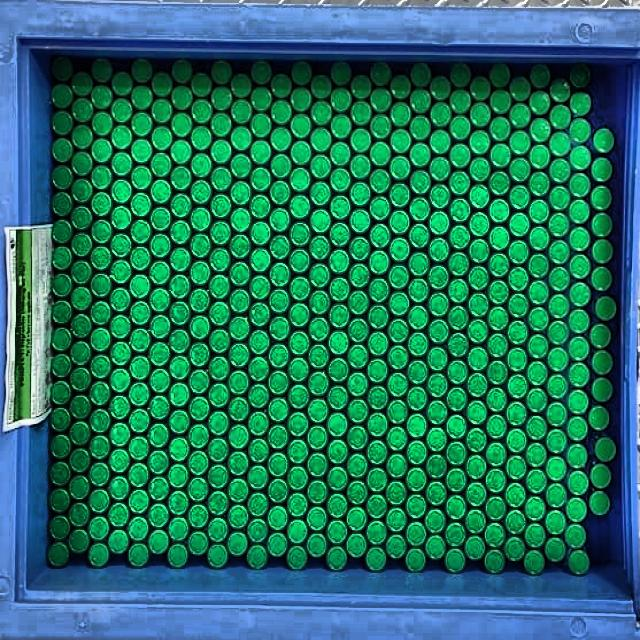vial: (226, 450, 249, 476), (593, 437, 616, 462), (267, 343, 290, 368), (226, 531, 248, 557), (306, 425, 328, 451), (88, 409, 111, 433), (186, 532, 209, 556), (267, 452, 290, 476), (249, 275, 271, 300), (188, 288, 210, 313), (129, 300, 151, 325), (90, 165, 112, 190), (51, 137, 73, 162), (190, 126, 212, 151), (129, 328, 151, 353), (50, 407, 72, 432), (107, 529, 129, 554), (385, 507, 407, 532), (523, 550, 545, 575), (547, 347, 569, 372), (591, 350, 613, 375), (467, 346, 489, 371), (386, 453, 408, 478), (327, 385, 349, 410), (349, 236, 371, 261), (447, 332, 469, 357), (467, 319, 489, 344), (593, 129, 615, 154), (549, 131, 571, 156), (469, 157, 491, 182), (449, 143, 471, 168), (350, 101, 372, 126), (290, 87, 312, 112), (210, 220, 231, 246), (210, 193, 231, 219), (246, 544, 267, 570), (365, 546, 386, 572), (465, 508, 486, 534), (366, 411, 387, 437), (407, 359, 428, 385), (309, 289, 330, 315), (408, 304, 429, 330), (488, 198, 509, 224), (370, 114, 391, 140), (248, 464, 268, 491), (149, 288, 171, 312), (70, 314, 92, 338), (51, 246, 73, 270), (150, 180, 172, 204), (71, 206, 93, 230), (51, 192, 73, 216), (91, 138, 113, 162), (189, 207, 211, 231), (210, 166, 232, 190), (169, 329, 191, 353), (69, 395, 91, 419), (128, 409, 150, 433), (108, 503, 130, 527), (567, 471, 589, 495), (545, 429, 567, 453), (406, 387, 428, 411), (267, 479, 289, 503), (287, 439, 309, 463), (247, 492, 269, 516), (187, 478, 209, 502), (288, 331, 310, 355), (248, 329, 270, 353), (308, 317, 330, 341), (428, 292, 450, 316), (507, 240, 529, 264), (549, 267, 571, 291), (568, 200, 590, 224), (548, 213, 570, 237), (528, 227, 550, 251), (488, 226, 510, 250), (508, 213, 530, 237), (528, 172, 550, 196), (388, 156, 410, 180), (110, 287, 131, 312), (90, 300, 111, 325), (50, 327, 71, 352), (51, 299, 72, 324), (72, 232, 93, 257), (130, 246, 151, 271), (71, 178, 92, 203), (111, 205, 132, 230), (111, 152, 132, 177), (131, 165, 152, 190), (170, 166, 191, 191), (230, 153, 251, 178), (151, 125, 172, 150), (50, 380, 71, 405), (89, 381, 110, 406), (109, 395, 130, 420), (69, 448, 90, 473), (88, 542, 109, 567), (89, 489, 110, 514), (88, 515, 109, 540), (127, 516, 148, 541), (89, 462, 110, 487), (108, 476, 129, 501), (148, 476, 169, 501), (148, 529, 169, 554), (188, 504, 209, 529), (207, 518, 228, 543), (327, 493, 348, 518), (346, 507, 367, 532), (346, 533, 367, 558), (405, 547, 426, 572), (485, 496, 506, 521), (526, 469, 547, 494), (590, 464, 611, 489), (505, 455, 526, 480), (506, 428, 527, 453), (526, 387, 547, 412), (547, 374, 568, 399), (568, 336, 589, 361), (467, 373, 488, 398), (487, 360, 508, 385), (485, 387, 506, 412), (447, 360, 468, 385), (426, 454, 447, 479), (327, 412, 348, 437), (287, 466, 308, 491), (208, 410, 229, 435), (268, 370, 289, 395), (248, 411, 269, 436), (267, 424, 288, 449), (268, 397, 289, 422), (288, 384, 309, 409), (308, 371, 329, 396), (427, 373, 448, 398), (289, 276, 310, 301), (328, 249, 349, 274), (289, 195, 310, 220), (508, 293, 529, 318), (508, 267, 529, 292), (569, 254, 590, 279), (591, 267, 612, 292), (591, 186, 612, 211), (569, 227, 590, 252), (570, 146, 591, 171), (509, 130, 530, 155), (470, 129, 491, 154), (429, 184, 450, 209), (449, 170, 470, 195), (310, 128, 331, 153), (290, 141, 311, 166), (270, 181, 291, 206), (351, 154, 372, 179), (369, 169, 390, 194), (449, 225, 470, 250), (306, 532, 326, 558), (367, 493, 387, 519), (589, 405, 609, 431), (208, 490, 228, 516), (350, 208, 370, 234), (251, 167, 271, 193), (249, 249, 271, 272), (51, 274, 73, 297), (50, 220, 73, 242), (51, 165, 73, 188), (111, 99, 133, 122), (149, 342, 171, 365), (50, 354, 72, 377), (147, 424, 169, 447), (68, 503, 90, 526), (567, 390, 589, 413), (527, 308, 549, 331), (489, 144, 511, 167), (129, 274, 150, 298), (90, 246, 111, 270), (170, 220, 191, 244), (111, 179, 132, 203), (91, 192, 112, 216), (52, 112, 73, 136), (92, 112, 113, 136), (151, 153, 172, 177), (171, 194, 192, 218), (231, 99, 252, 123), (211, 60, 232, 84), (171, 112, 192, 136), (112, 125, 133, 149), (72, 98, 93, 122), (208, 357, 229, 381), (189, 343, 210, 367), (90, 354, 111, 378), (109, 369, 130, 393), (129, 356, 150, 380), (70, 341, 91, 365), (128, 436, 149, 460), (109, 423, 130, 447), (69, 421, 90, 445), (49, 461, 70, 485), (47, 542, 68, 566), (68, 529, 89, 553), (128, 543, 149, 567), (109, 449, 130, 473), (128, 463, 149, 487), (148, 504, 169, 528), (266, 533, 287, 557), (287, 519, 308, 543), (287, 546, 308, 570), (366, 521, 387, 545), (385, 535, 406, 559), (425, 536, 446, 560), (445, 522, 466, 546), (568, 550, 589, 574), (545, 510, 566, 534), (505, 483, 526, 507), (566, 444, 587, 468), (546, 457, 567, 481), (485, 469, 506, 493), (567, 416, 588, 440), (526, 416, 547, 440), (506, 401, 527, 425), (527, 361, 548, 385), (466, 401, 487, 425), (507, 374, 528, 398), (507, 348, 528, 372), (527, 334, 548, 358), (487, 333, 508, 357), (486, 442, 507, 466), (446, 441, 467, 465), (426, 427, 447, 451), (407, 440, 428, 464), (386, 427, 407, 451), (387, 399, 408, 423), (347, 481, 368, 505), (347, 399, 368, 423), (327, 467, 348, 491), (327, 439, 348, 463), (306, 480, 327, 504), (227, 478, 248, 502), (167, 463, 188, 487), (188, 451, 209, 475), (169, 409, 190, 433), (228, 397, 249, 421), (228, 371, 249, 395), (308, 399, 329, 423), (308, 344, 329, 368), (347, 372, 368, 396), (388, 345, 409, 369), (249, 302, 270, 326), (288, 303, 309, 327), (329, 304, 350, 328), (309, 263, 330, 287), (369, 251, 390, 275), (388, 318, 409, 342), (448, 279, 469, 303), (469, 239, 490, 263), (548, 294, 569, 318), (528, 254, 549, 278), (570, 282, 591, 306), (509, 185, 530, 209), (528, 199, 549, 223), (509, 158, 530, 182), (550, 159, 571, 183), (591, 158, 612, 182), (569, 118, 590, 142), (490, 117, 511, 141), (510, 77, 531, 101), (450, 89, 471, 113), (449, 198, 470, 222), (430, 157, 451, 181), (410, 197, 431, 221), (410, 171, 431, 195), (410, 116, 431, 140), (390, 129, 411, 153), (390, 102, 411, 126), (430, 76, 451, 100), (370, 61, 391, 85), (311, 100, 332, 124), (251, 113, 272, 137), (271, 100, 292, 124), (310, 182, 331, 206), (469, 213, 490, 237), (429, 211, 450, 235), (250, 194, 270, 219), (90, 327, 110, 352), (151, 206, 171, 231), (191, 153, 211, 178), (210, 328, 230, 353), (90, 435, 110, 460), (69, 475, 89, 500), (168, 543, 188, 568), (287, 492, 307, 517), (327, 545, 347, 570), (445, 548, 465, 573), (525, 523, 545, 548), (545, 537, 565, 562), (525, 496, 545, 521), (546, 483, 566, 508), (446, 468, 466, 493), (407, 413, 427, 438), (307, 452, 327, 477), (348, 426, 368, 451), (208, 464, 228, 489), (208, 437, 228, 462), (229, 424, 249, 449), (189, 396, 209, 421), (249, 383, 269, 408), (288, 412, 308, 437), (388, 372, 408, 397), (348, 343, 368, 368), (408, 332, 428, 357), (329, 277, 349, 302), (348, 289, 368, 314), (370, 196, 390, 221), (369, 278, 389, 303), (389, 291, 409, 316), (409, 251, 429, 276), (488, 280, 508, 305), (528, 280, 548, 305), (592, 239, 612, 264), (570, 173, 590, 198), (550, 104, 570, 129), (450, 115, 470, 140), (431, 102, 451, 127), (331, 114, 351, 139), (351, 128, 371, 153), (290, 113, 310, 138), (251, 87, 271, 112), (311, 155, 331, 180), (389, 210, 409, 235), (167, 518, 189, 540), (269, 208, 290, 231), (229, 262, 250, 285), (269, 263, 290, 286), (190, 262, 211, 285), (190, 235, 211, 258), (110, 234, 131, 257), (150, 234, 171, 257), (71, 152, 92, 175), (231, 126, 252, 149), (171, 140, 192, 163), (211, 88, 232, 111), (131, 139, 152, 162), (131, 113, 152, 136), (131, 86, 152, 109), (91, 85, 112, 108), (52, 58, 73, 81), (229, 317, 250, 340), (149, 315, 170, 338), (129, 383, 150, 406), (50, 435, 71, 458), (49, 489, 70, 512), (49, 516, 70, 539), (247, 519, 268, 542), (267, 507, 288, 530), (485, 550, 506, 573), (504, 537, 525, 560), (546, 403, 567, 426), (568, 363, 589, 386), (466, 428, 487, 451), (466, 455, 487, 478), (168, 491, 189, 514), (169, 383, 190, 406), (288, 358, 309, 381), (348, 318, 369, 341), (368, 332, 389, 355), (428, 319, 449, 342), (427, 347, 448, 370), (269, 317, 290, 340), (309, 236, 330, 259), (549, 240, 570, 263), (548, 322, 569, 345), (507, 321, 528, 344), (595, 298, 616, 321), (591, 214, 612, 237), (469, 77, 490, 100), (330, 88, 351, 111), (271, 74, 292, 97), (231, 208, 251, 232), (270, 289, 290, 313), (210, 275, 230, 299), (171, 247, 191, 271), (91, 274, 111, 298), (111, 260, 131, 284), (131, 193, 151, 217), (92, 220, 112, 244), (191, 180, 211, 204), (211, 140, 231, 164), (192, 99, 212, 123), (152, 100, 172, 124), (152, 72, 172, 96), (170, 302, 190, 326), (229, 343, 249, 367), (150, 369, 170, 393), (70, 368, 90, 392), (129, 490, 149, 514), (327, 520, 347, 544), (307, 506, 327, 530), (406, 521, 426, 545), (464, 536, 484, 560), (466, 482, 486, 506), (485, 523, 505, 547), (566, 498, 586, 522), (505, 510, 525, 534), (592, 378, 612, 402), (486, 414, 506, 438), (446, 387, 466, 411), (427, 400, 447, 424), (386, 481, 406, 505), (406, 467, 426, 491), (426, 481, 446, 505), (347, 454, 367, 478), (248, 439, 268, 463), (169, 437, 189, 461), (189, 424, 209, 448), (189, 369, 209, 393), (329, 358, 349, 382), (368, 385, 388, 409), (367, 358, 387, 382), (329, 331, 349, 355), (230, 289, 250, 313), (290, 249, 310, 273), (330, 223, 350, 247), (310, 209, 330, 233), (290, 222, 310, 246), (330, 195, 350, 219), (369, 224, 389, 248), (349, 264, 369, 288), (368, 305, 388, 329), (449, 253, 469, 277), (469, 266, 489, 290), (489, 253, 509, 277), (429, 238, 449, 262), (549, 186, 569, 210), (489, 172, 509, 196), (530, 145, 550, 169), (530, 118, 550, 142), (570, 92, 590, 116), (570, 64, 590, 88), (550, 78, 570, 102), (470, 102, 490, 126), (469, 184, 489, 208), (410, 143, 430, 167), (251, 61, 271, 85), (251, 140, 271, 164), (271, 128, 291, 152), (351, 182, 371, 206), (370, 142, 390, 166), (409, 224, 429, 248), (390, 238, 410, 262), (390, 183, 410, 207), (211, 248, 230, 273), (192, 72, 211, 97), (426, 508, 445, 533), (249, 356, 268, 381), (429, 265, 448, 290), (491, 89, 510, 114), (290, 167, 309, 192), (229, 236, 250, 258), (71, 262, 92, 284), (52, 85, 73, 107), (110, 342, 131, 364), (468, 294, 489, 316), (170, 275, 190, 298), (150, 262, 170, 285), (110, 315, 130, 338), (131, 220, 151, 243), (72, 125, 92, 148), (231, 181, 251, 204), (211, 113, 231, 136), (172, 86, 192, 109), (172, 60, 192, 83), (112, 72, 132, 95), (190, 316, 210, 339), (170, 356, 190, 379), (149, 396, 169, 419), (208, 544, 228, 567), (565, 525, 585, 548), (526, 443, 546, 466), (590, 324, 610, 347), (446, 415, 466, 438), (367, 468, 387, 491), (406, 494, 426, 517), (228, 505, 248, 528), (148, 450, 168, 473), (209, 384, 229, 407), (409, 279, 429, 302), (448, 306, 468, 329), (569, 310, 589, 333), (510, 104, 530, 127), (530, 65, 550, 88), (430, 130, 450, 153), (331, 62, 351, 85), (351, 75, 371, 98), (292, 62, 312, 85), (272, 155, 292, 178), (330, 143, 350, 166), (250, 222, 269, 246), (271, 235, 290, 259), (72, 287, 91, 311), (132, 59, 151, 83), (210, 302, 229, 326), (447, 495, 466, 519), (411, 89, 430, 113), (312, 75, 331, 99), (72, 73, 92, 95), (488, 307, 508, 329), (371, 89, 391, 111), (411, 64, 431, 86), (232, 74, 251, 97), (590, 491, 609, 514), (368, 441, 387, 464), (389, 266, 408, 289), (530, 91, 549, 114), (331, 169, 350, 192), (450, 65, 470, 86), (491, 65, 510, 87), (391, 76, 410, 98), (93, 59, 111, 82)
